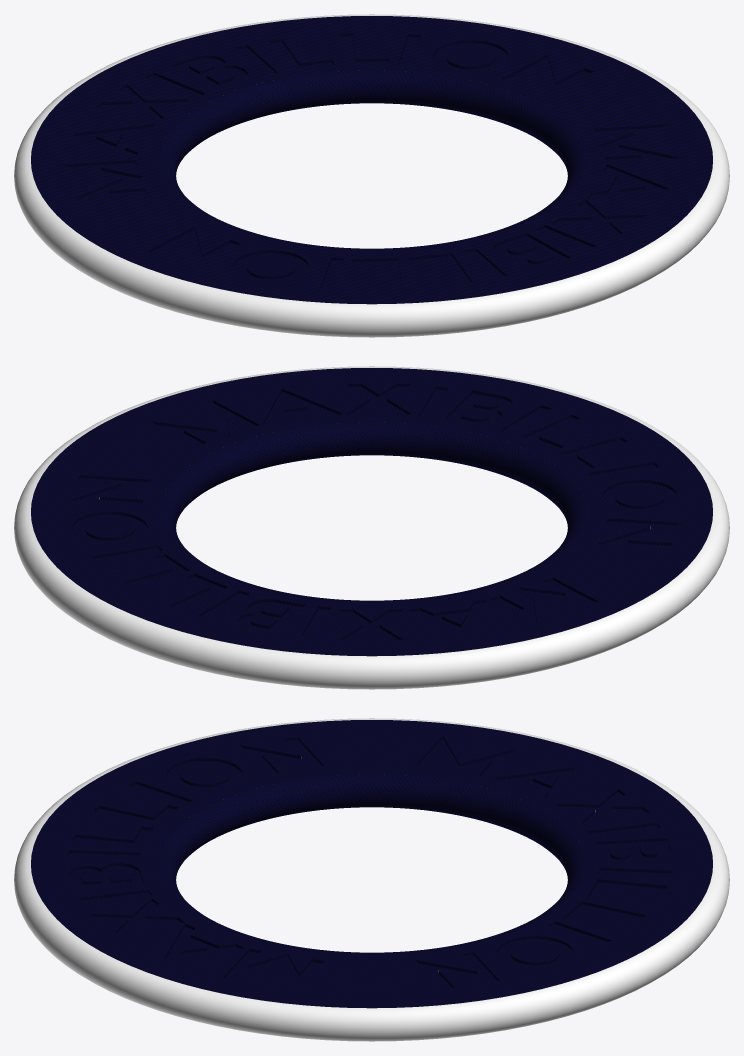
3 renders of one model, top to bottom at view 1: azimuth 30°, elevation 25°; view 2: azimuth 150°, elevation 25°; view 3: azimuth 270°, elevation 25°, orthographic.
Visible parts, largest first — view 1: Color_M05entity, Color_M05entity_clonedChild; view 2: Color_M05entity, Color_M05entity_clonedChild; view 3: Color_M05entity, Color_M05entity_clonedChild.
Boxes of the visible parts, x1,y1,x2,y2 form: Color_M05entity: (31, 16, 712, 304); Color_M05entity_clonedChild: (14, 14, 729, 337); Color_M05entity: (31, 368, 712, 656); Color_M05entity_clonedChild: (14, 366, 729, 689); Color_M05entity: (31, 720, 712, 1008); Color_M05entity_clonedChild: (14, 718, 729, 1041).
Size of the model in its own units: 4.08 by 0.2004 by 4.08.
Materials: 2 (1 with a texture image).
